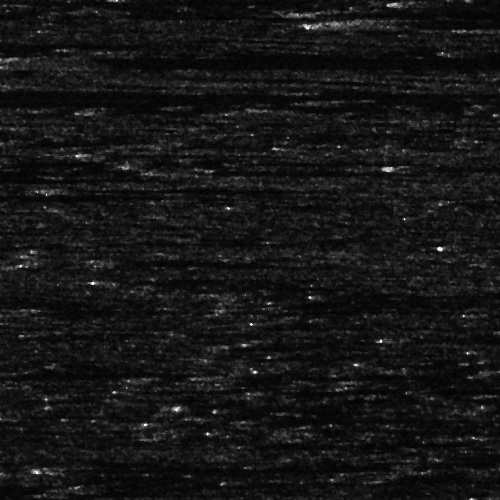object: (101, 165, 268, 176), (3, 461, 96, 476), (279, 17, 404, 28), (246, 5, 361, 16), (66, 275, 129, 284), (0, 189, 36, 200), (28, 183, 81, 190), (7, 57, 38, 64)
shadow: (49, 461, 297, 476), (0, 358, 202, 375), (0, 189, 297, 200), (22, 57, 423, 64), (185, 165, 426, 176), (54, 183, 368, 190), (304, 5, 469, 16), (0, 484, 134, 497), (97, 275, 257, 284), (342, 17, 426, 28)
